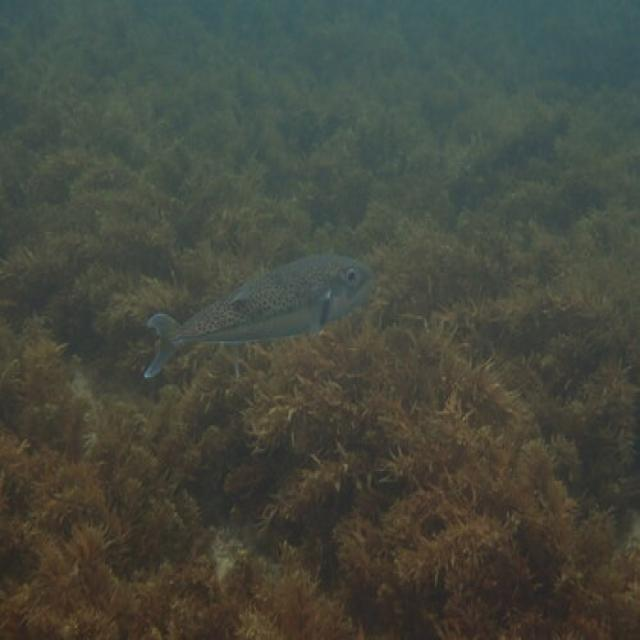Balik: (144, 255, 373, 378)
